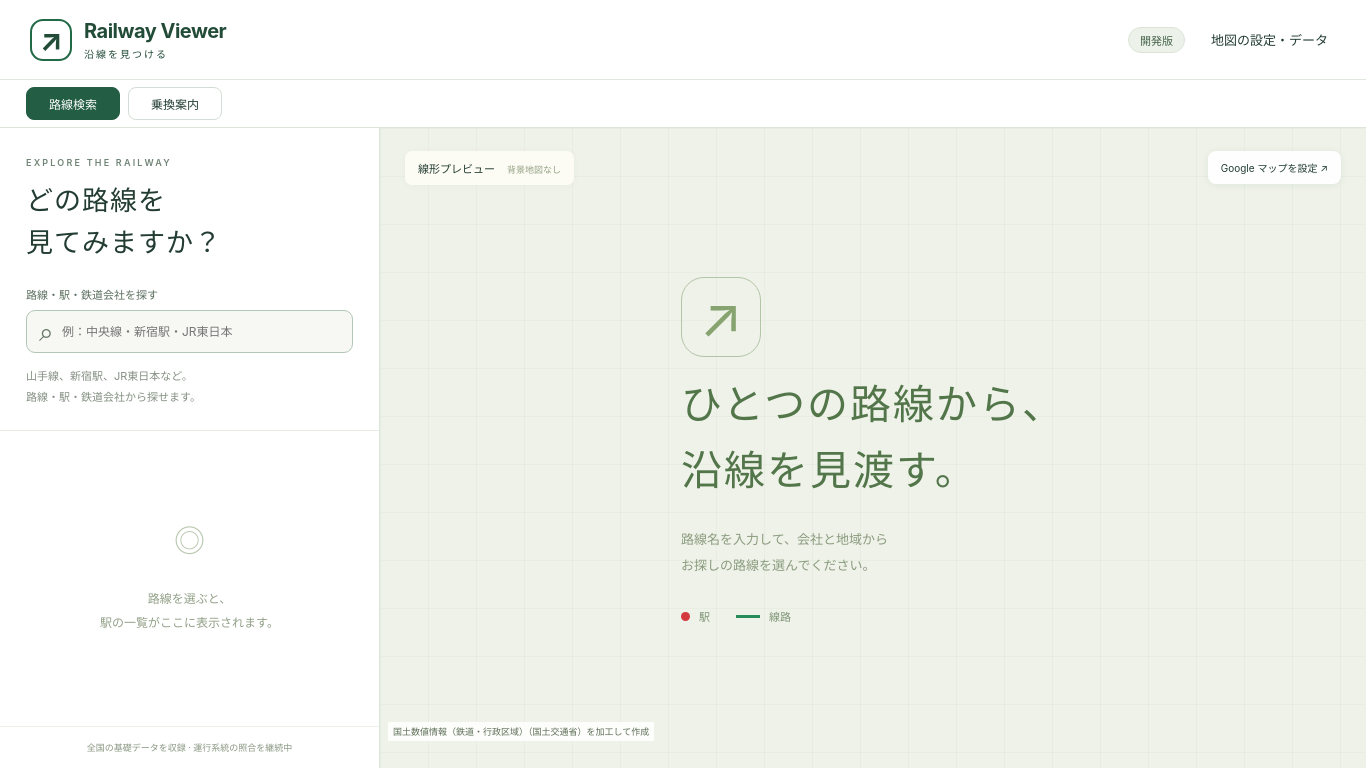
Test case: 複数路線を凡例と同じ色で描き、先の路線を解除しても残る色を変えない
The image size is (1366, 768).
Type "中央線" into the dropdown at (190, 331), box [26,310,353,353]
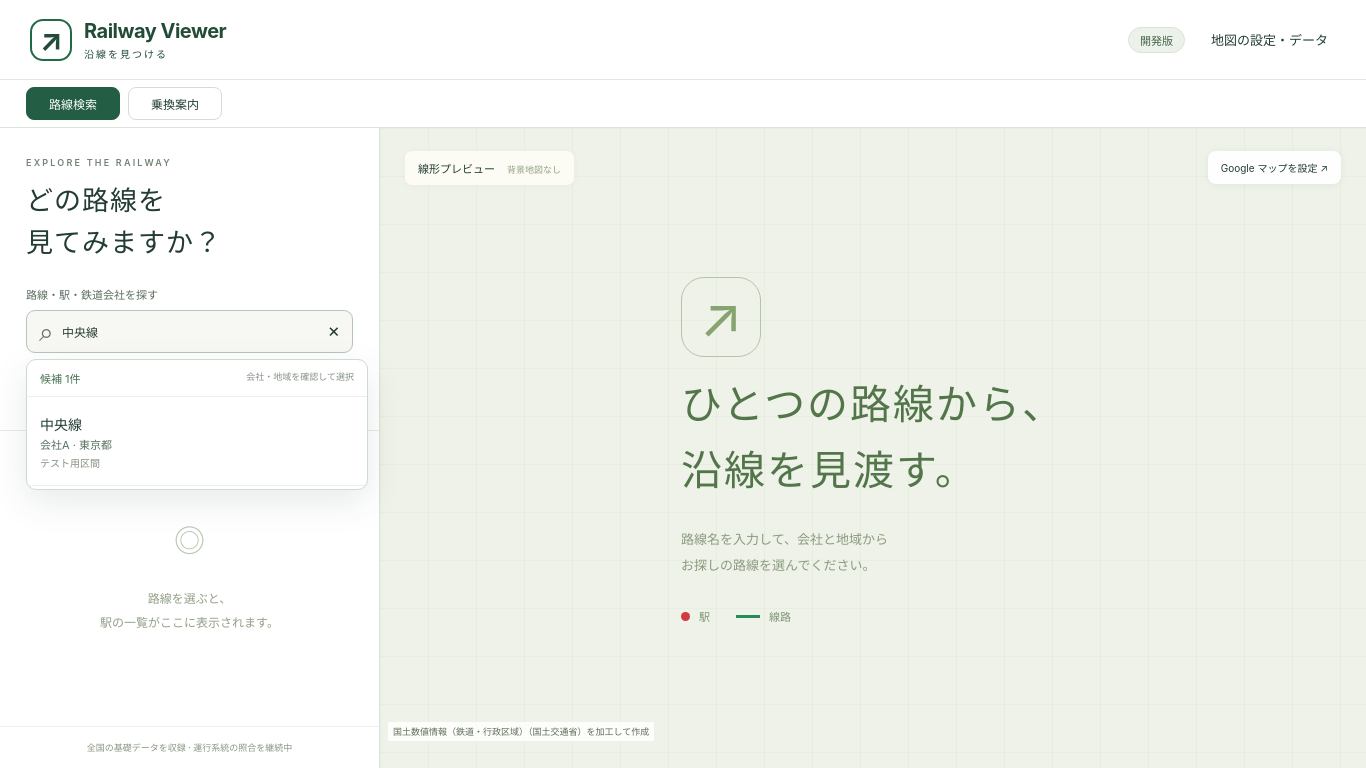
Click the option "中央線 会社A · 東京都 テスト用区間" at (61, 424), box [27,400,367,486]
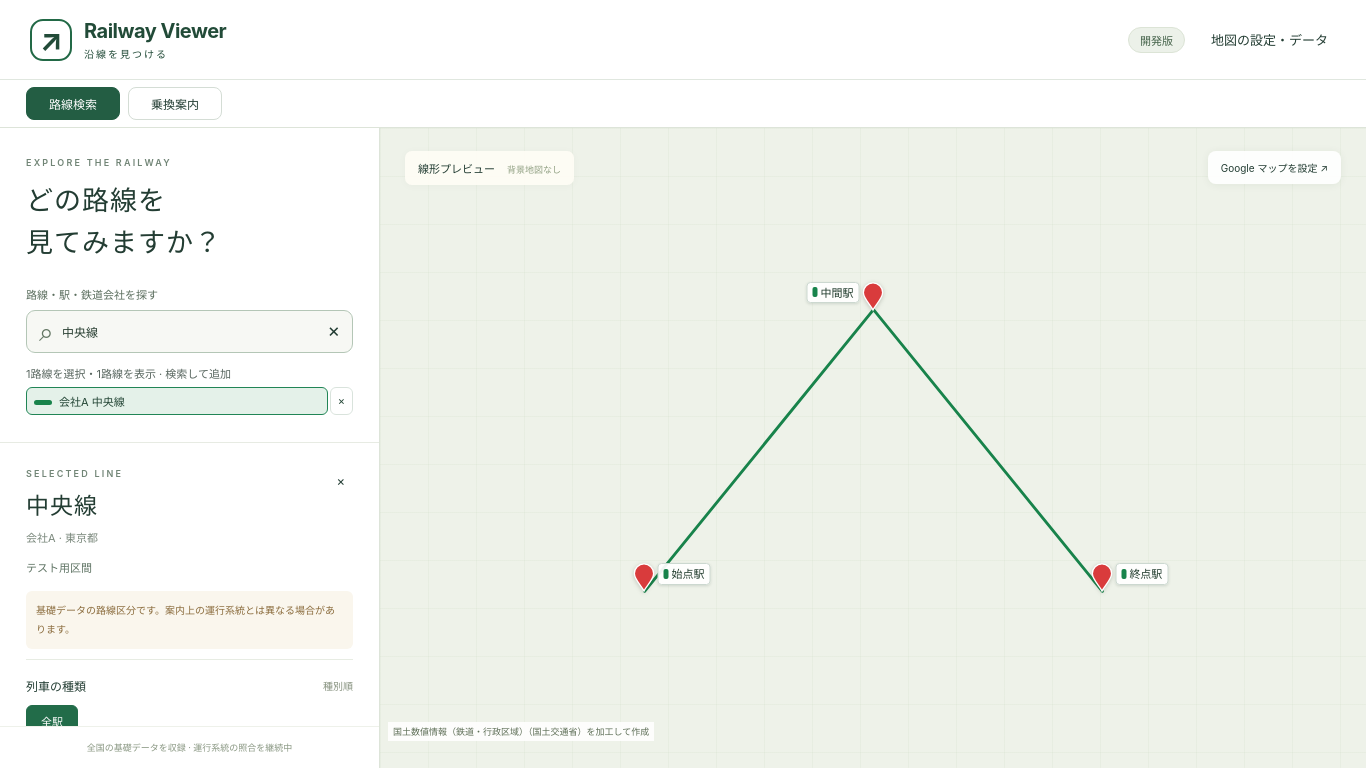
Check: the picture named "中央線の線路形状" is shown, box [616,193,1130,708]
Replace the text in the dropdown with "第二線" at (190, 331), box [26,310,353,353]
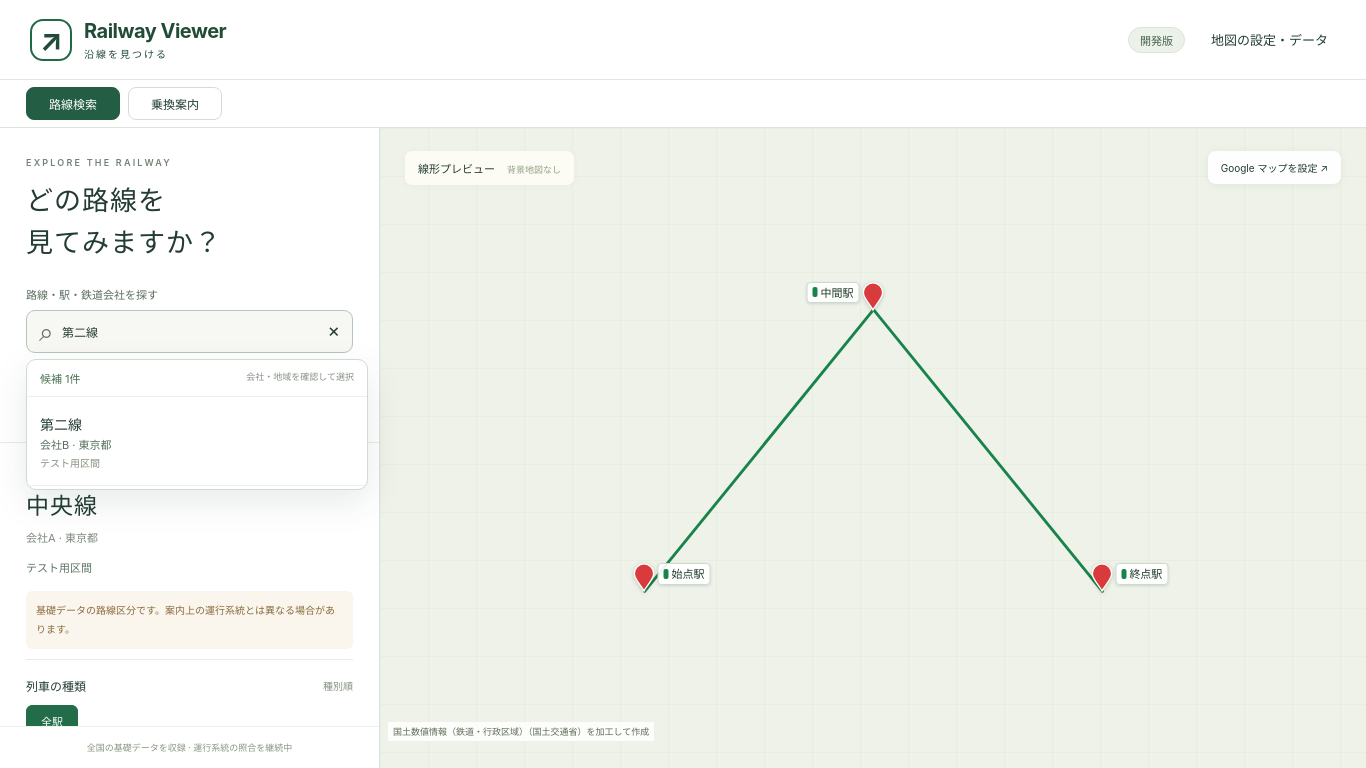
Click the option "第二線 会社B · 東京都 テスト用区間" at (61, 424), box [27,400,367,486]
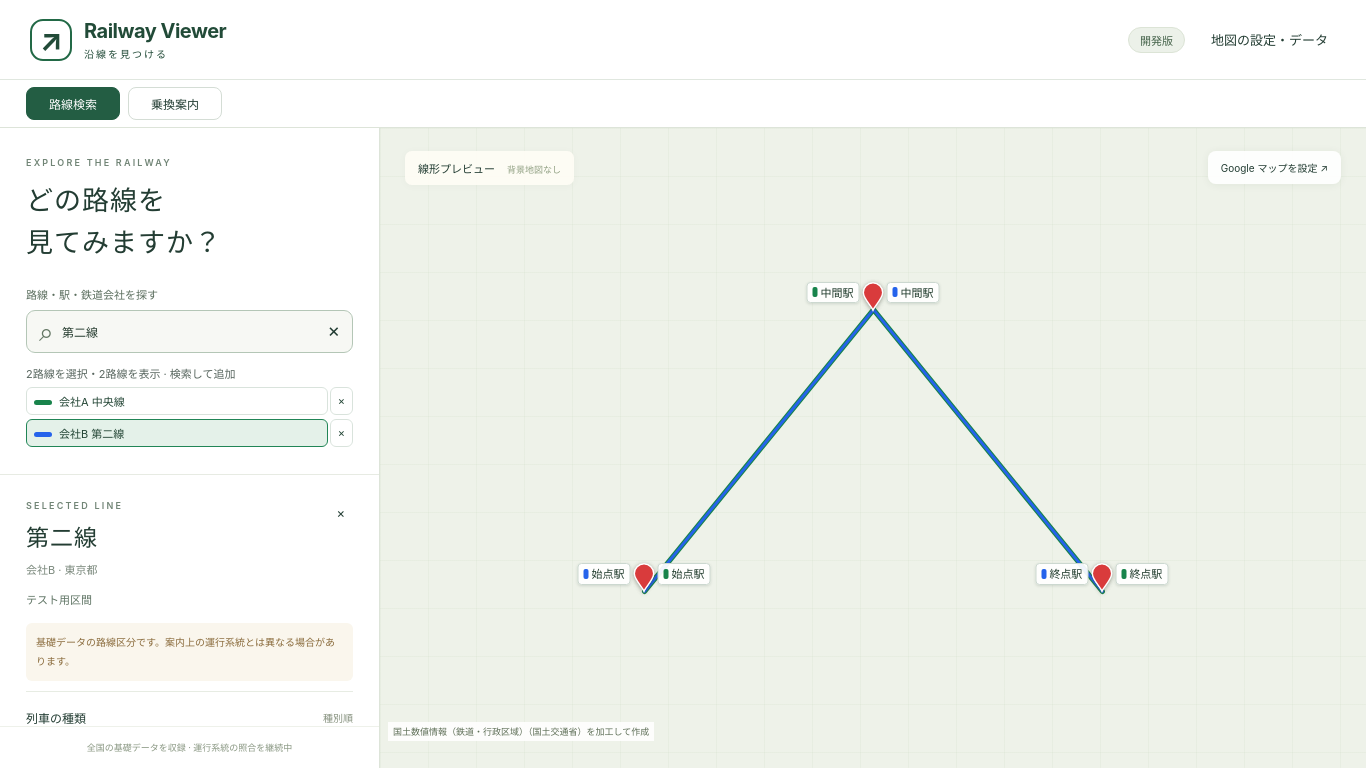
Click the button named "会社A 中央線を地図から外す" at (341, 401), box [330,387,353,415]
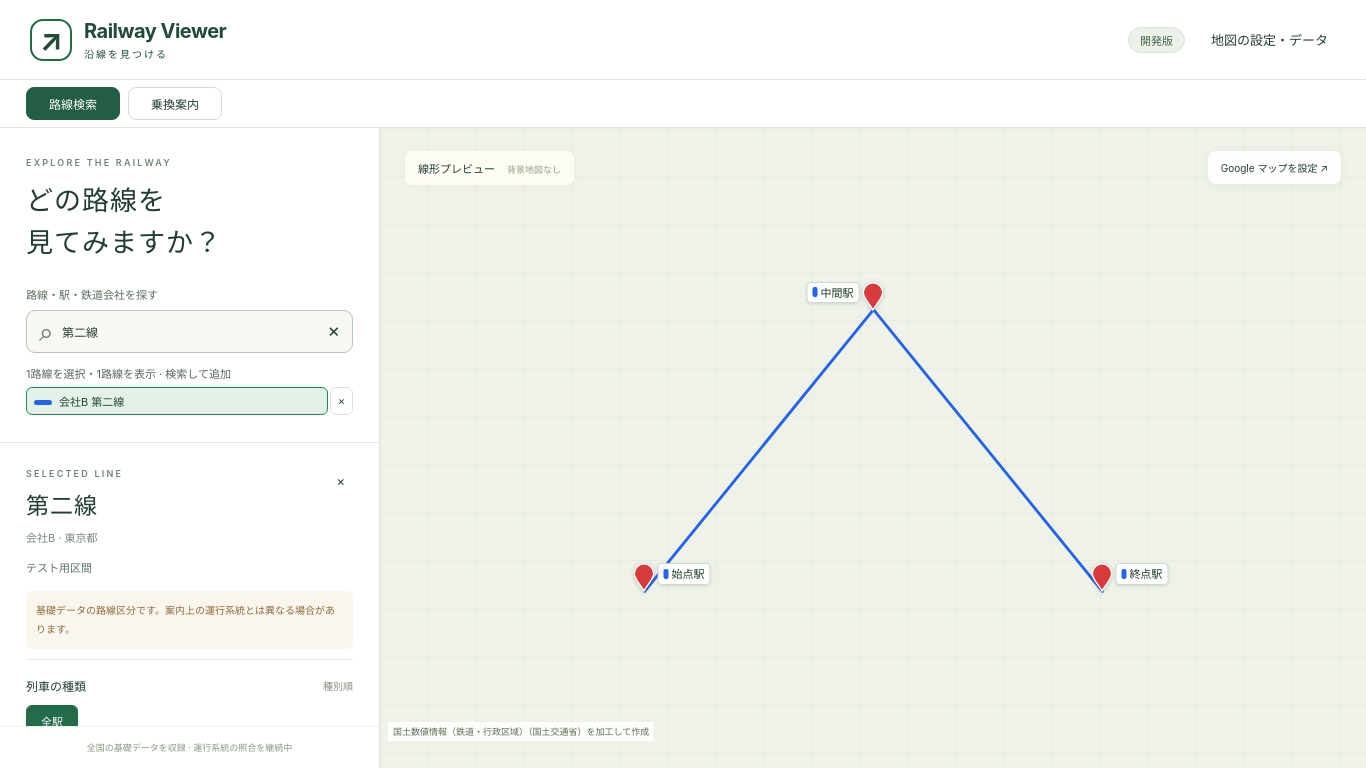
Check: the number of elements with class "station-name-label" is 3, box [658,563,711,585]; [806,282,860,303]; [1115,563,1168,585]
